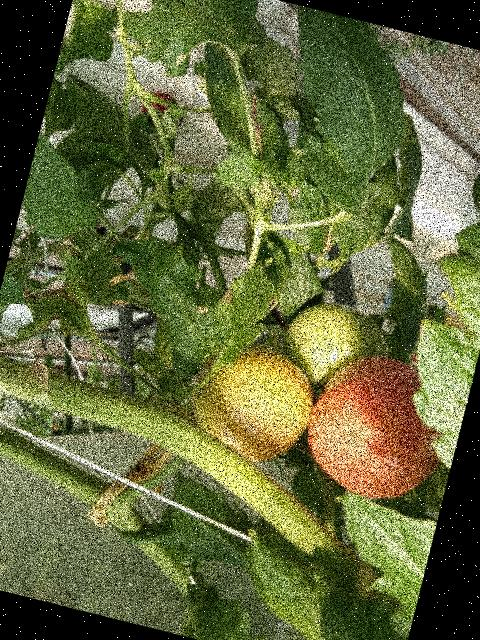b_green: (272, 292, 400, 410)
b_half_ripened: (294, 343, 462, 513), (176, 328, 325, 474)
